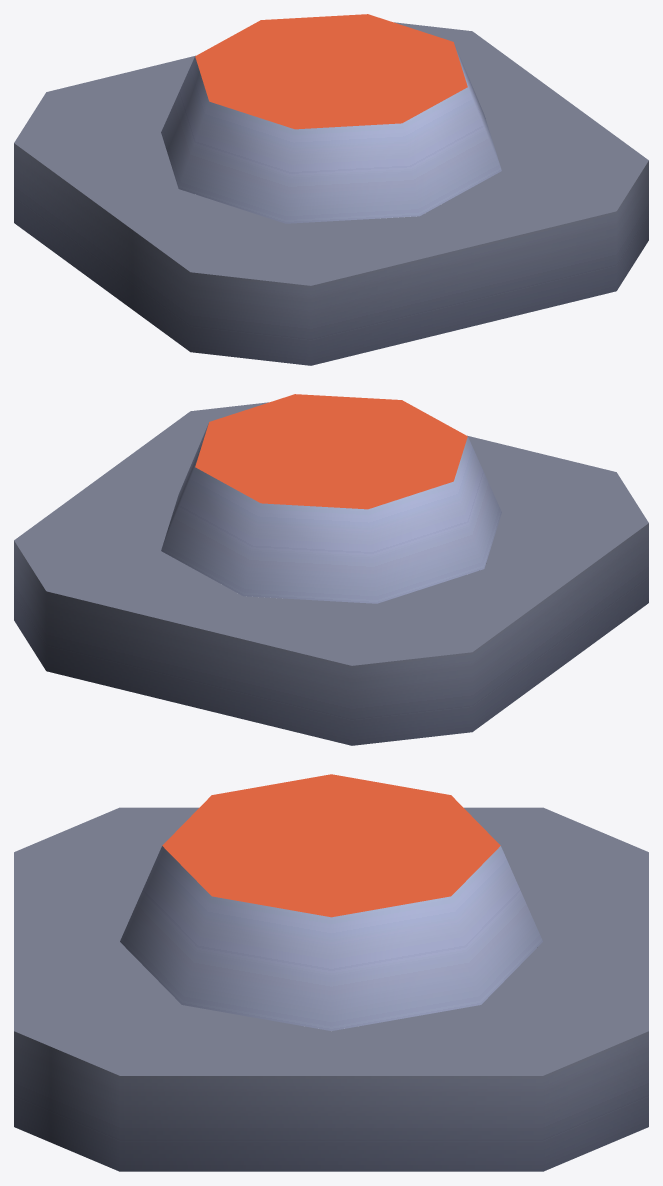
File: button-floor-round-small.glb
3 renders of one model, top to bottom at view 1: azimuth 30°, elevation 25°; view 2: azimuth 150°, elevation 25°; view 3: azimuth 270°, elevation 25°, orthographic. The views are drawn at different scales.
Parts seen in each view (by area): view 1: button-floor-round-small, button; view 2: button-floor-round-small, button; view 3: button-floor-round-small, button.
Part boxes in pixels (x1=…): button-floor-round-small: x1=14, y1=22, x2=648, y2=365; button: x1=161, y1=14, x2=501, y2=223; button-floor-round-small: x1=14, y1=402, x2=648, y2=745; button: x1=161, y1=394, x2=501, y2=603; button-floor-round-small: x1=14, y1=807, x2=648, y2=1171; button: x1=120, y1=774, x2=542, y2=1030.
Size of the model in its own units: 0.3 by 0.1 by 0.3.
Materials: 1 (1 with a texture image).
